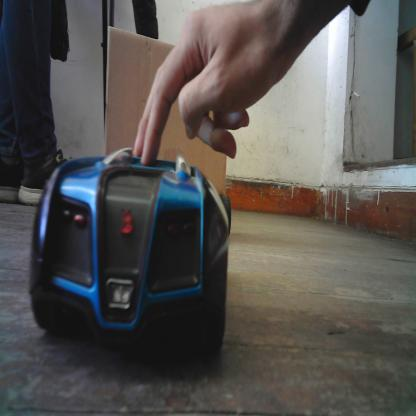LeadTruck: (103, 23, 233, 238)
